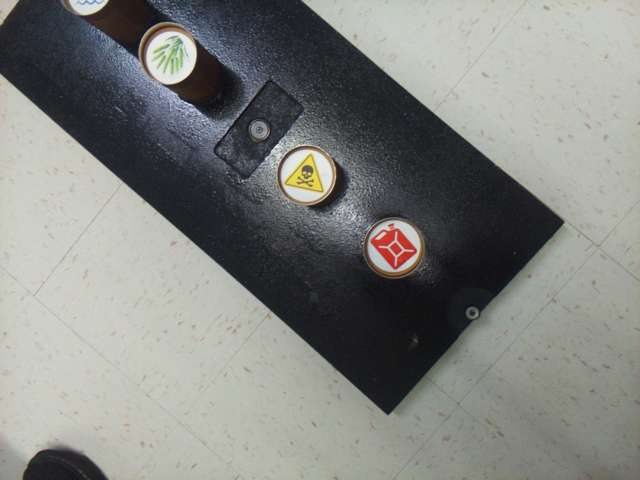gasoline: (367, 221, 420, 273)
toxic_fluid: (282, 150, 332, 200)
water_barrel: (70, 0, 107, 14)
wheat_barrel: (146, 31, 196, 82)
